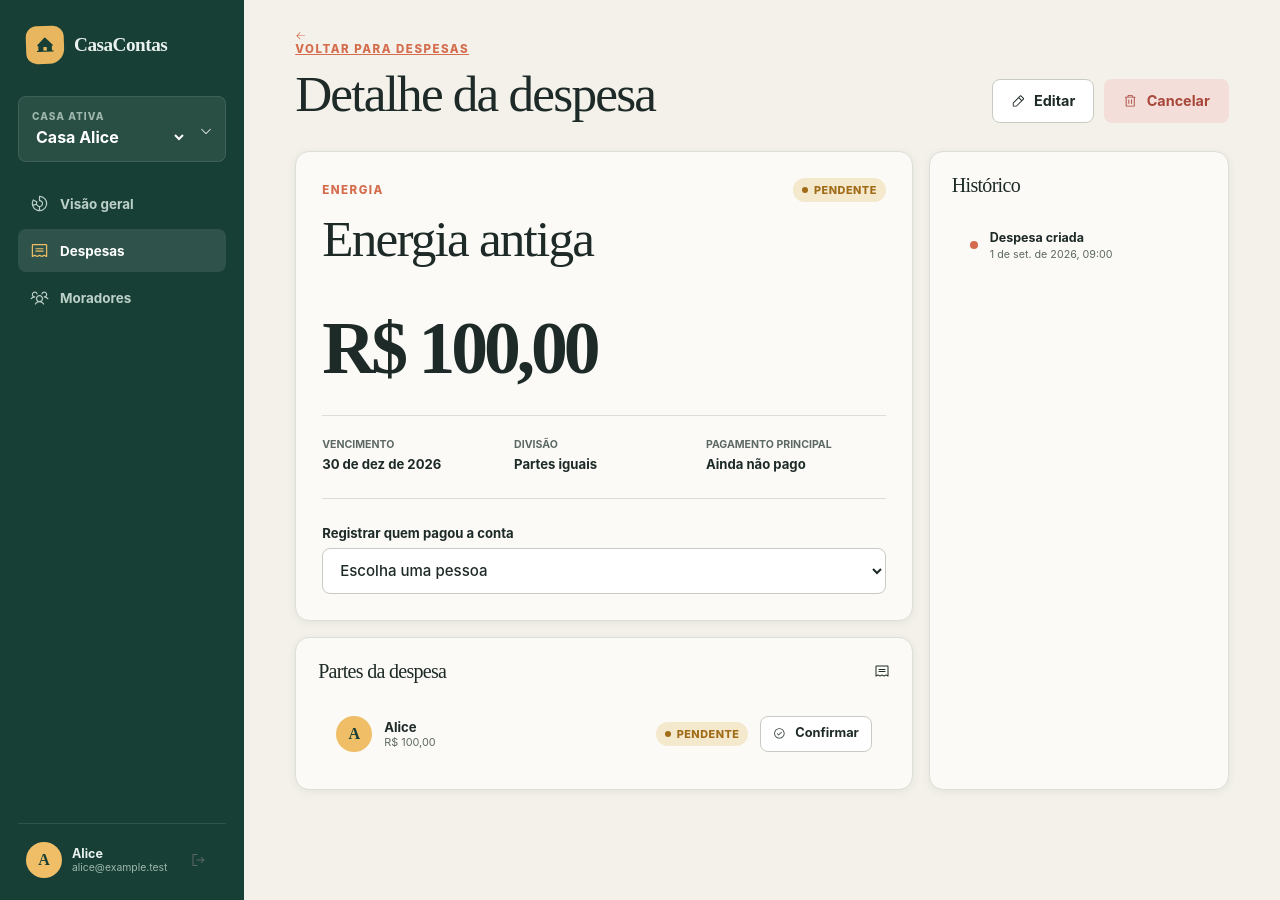
mostra a recusa da API ao confirmar uma parte
Click the button "Confirmar" at (816, 734), box [760,716,872,752]
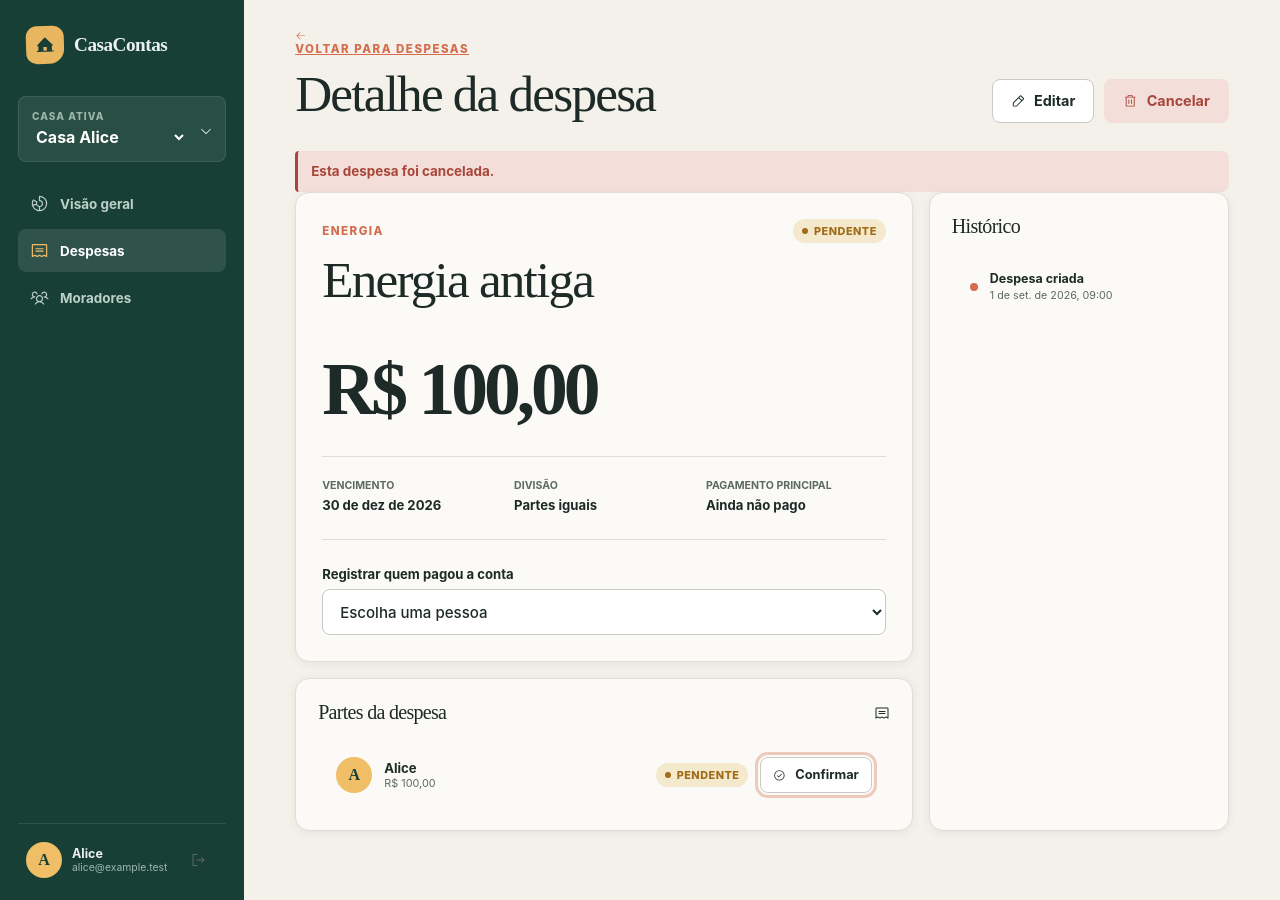
Expected: the message reads "Esta despesa foi cancelada.", [311,163,494,179]
